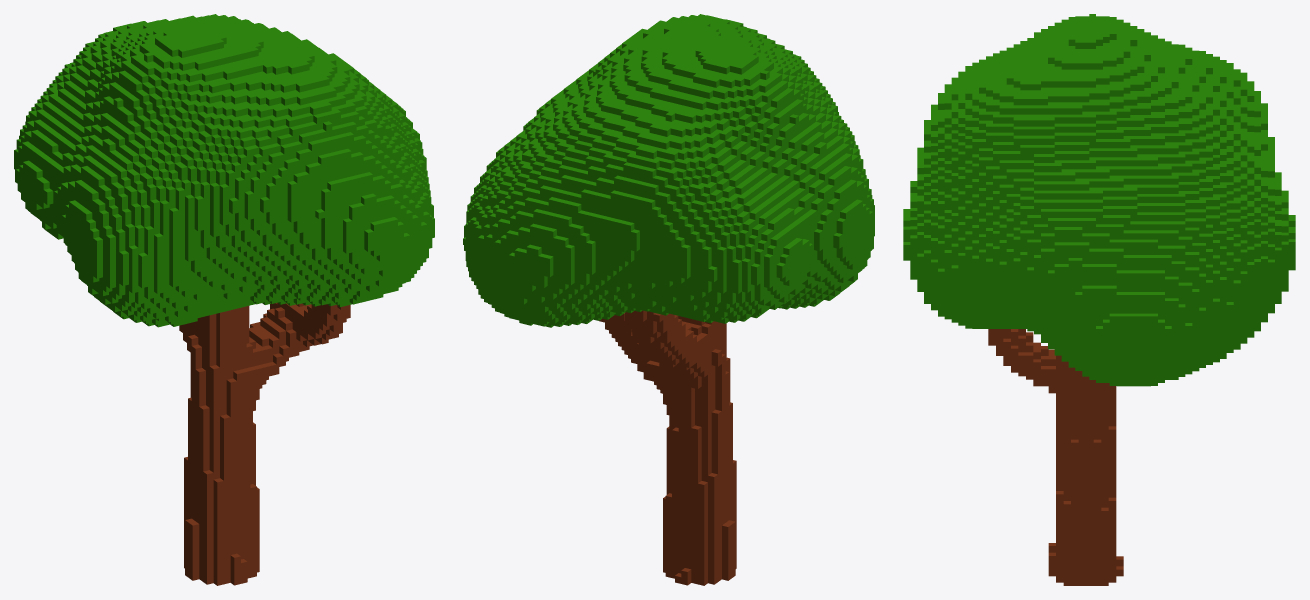
Rendered from Tree3.fbx.
3 views of the same model, side by side, from view 1: azimuth 30°, elevation 25°; view 2: azimuth 150°, elevation 25°; view 3: azimuth 270°, elevation 25° (orthographic). The views are drawn at different scales.
Visible parts, largest first — view 1: Cube.031; view 2: Cube.031; view 3: Cube.031.
Boxes of the visible parts, x1,y1,x2,y2 form: Cube.031: [14, 14, 434, 585]; Cube.031: [463, 14, 874, 585]; Cube.031: [903, 14, 1295, 585].
Bounding box in the file's own units: 207 × 309 × 207.
